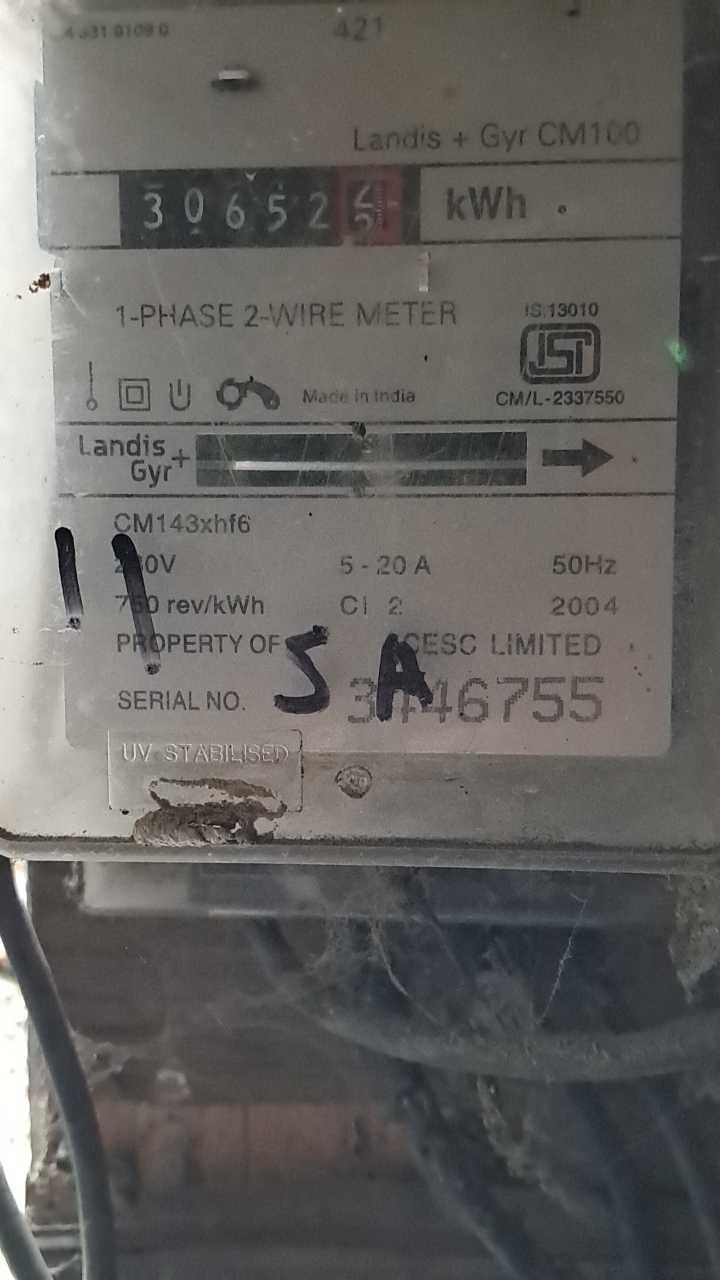meter_readings: (126, 173, 397, 245)
serial_number: (332, 667, 624, 735)
